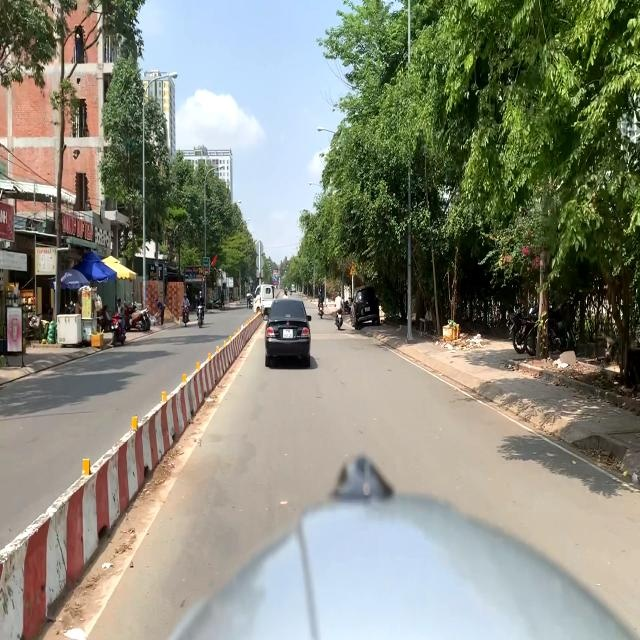bien_nguy_hiem: (273, 270, 277, 276), (273, 276, 277, 281)
